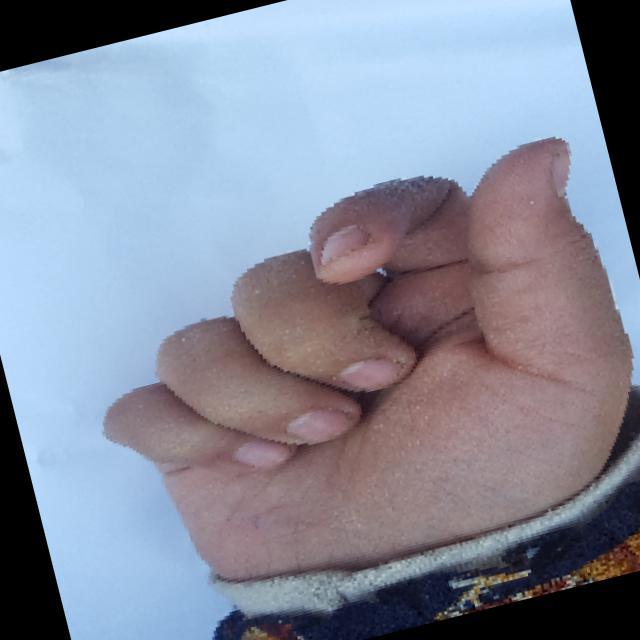Nail: (285, 407, 346, 442), (336, 357, 398, 390), (318, 224, 367, 265), (233, 437, 291, 467), (550, 149, 569, 197)
